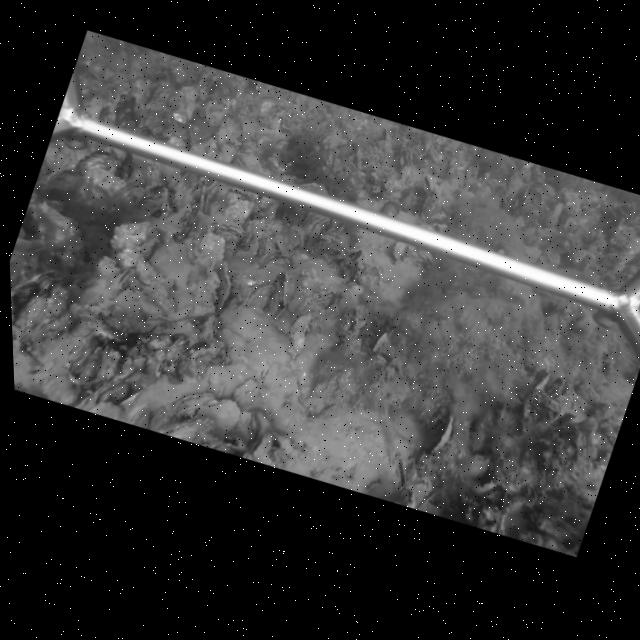Oyster-Closed: (75, 363, 136, 409), (196, 398, 242, 436), (423, 414, 455, 456), (295, 288, 339, 315), (171, 392, 214, 417), (244, 281, 275, 309), (215, 262, 232, 313), (257, 252, 290, 273), (200, 182, 220, 213), (277, 272, 293, 305)
Oyster-Indeterminate: (287, 313, 317, 359)
Oyster-Open: (110, 264, 137, 299)
